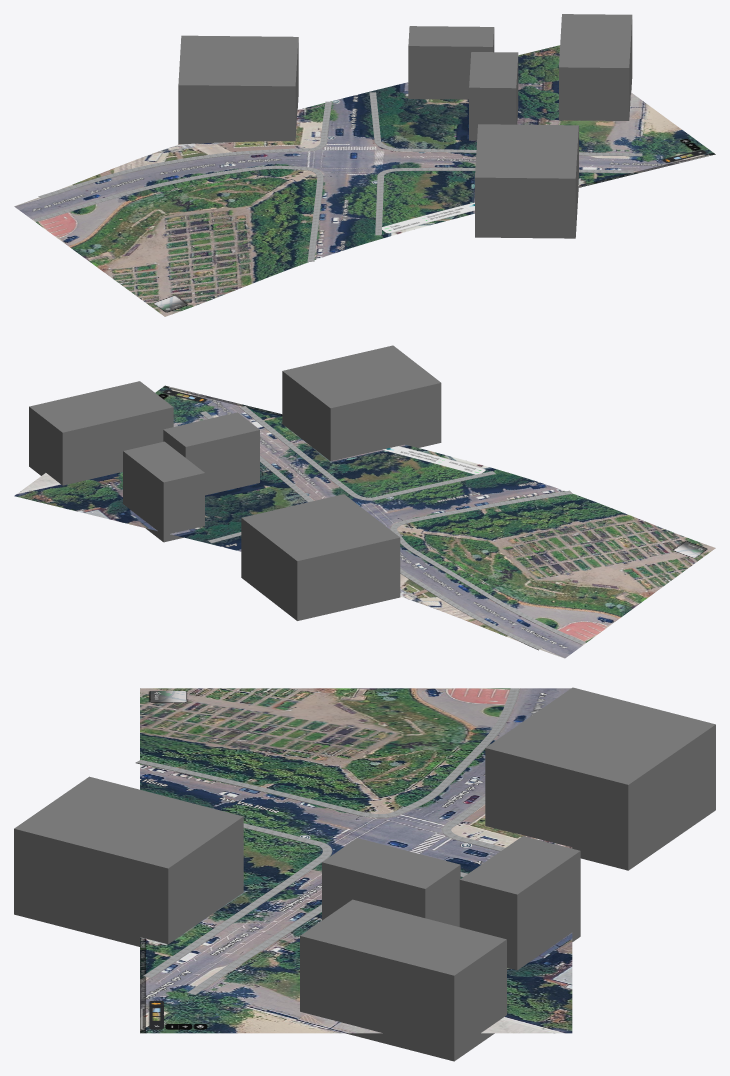
The model's file is street_corner.gltf.
3 views of the same model, one above another, from view 1: azimuth 30°, elevation 25°; view 2: azimuth 150°, elevation 25°; view 3: azimuth 270°, elevation 25° (orthographic). The views are drawn at different scales.
Visible parts, largest first — view 1: terrain, Building.001, Building.005, Building.004, Building.003, Building.002, sidewalk_SW, sidewalk_NW, sidewalk_SE, sidewalk_NE; view 2: terrain, Building.001, Building.005, Building.004, Building.003, Building.002, sidewalk_SW, sidewalk_SE, sidewalk_NW, sidewalk_NE; view 3: terrain, Building.001, Building.005, Building.004, Building.003, Building.002, sidewalk_SW, sidewalk_SE, sidewalk_NE, sidewalk_NW.
Part boxes in pixels (x1,y1,x2,y2): terrain: [14, 45, 715, 316]; Building.001: [178, 35, 298, 144]; Building.005: [475, 124, 578, 238]; Building.004: [559, 14, 632, 120]; Building.003: [408, 26, 494, 99]; Building.002: [469, 52, 518, 140]; sidewalk_SW: [33, 165, 323, 261]; sidewalk_NW: [38, 101, 331, 198]; sidewalk_SE: [375, 167, 633, 235]; sidewalk_NE: [369, 92, 642, 156]; terrain: [14, 385, 715, 658]; Building.001: [241, 494, 400, 620]; Building.005: [282, 345, 441, 461]; Building.004: [29, 381, 173, 485]; Building.003: [123, 441, 204, 542]; Building.002: [163, 412, 259, 495]; sidewalk_SW: [390, 490, 585, 644]; sidewalk_SE: [239, 406, 495, 500]; sidewalk_NW: [400, 568, 542, 650]; sidewalk_NE: [200, 411, 313, 543]; terrain: [140, 688, 572, 1033]; Building.001: [485, 687, 715, 870]; Building.005: [14, 776, 243, 946]; Building.004: [300, 899, 506, 1061]; Building.003: [459, 836, 580, 970]; Building.002: [322, 838, 460, 926]; sidewalk_SW: [135, 688, 519, 817]; sidewalk_SE: [143, 823, 332, 978]; sidewalk_NE: [187, 872, 467, 994]; sidewalk_NW: [441, 796, 504, 851].
Size of the model in its own units: 202 by 27.1 by 148.
Materials: 3 (2 with a texture image).
